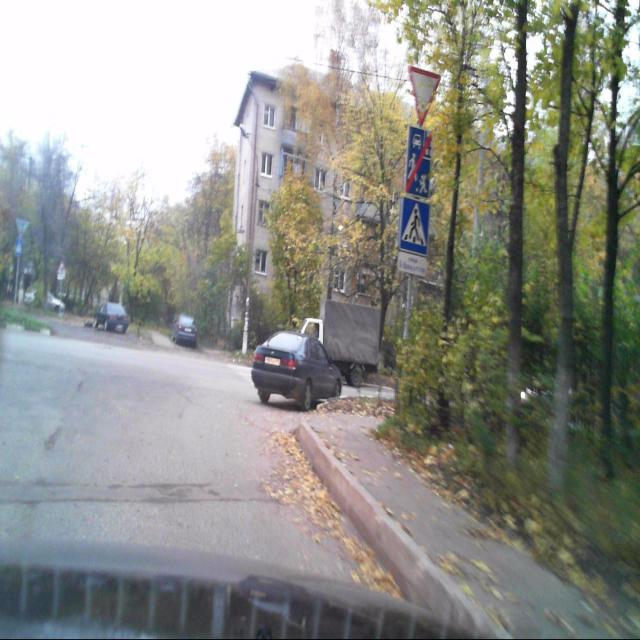road sign: (404, 127, 431, 199), (408, 66, 440, 125), (400, 200, 428, 253)
